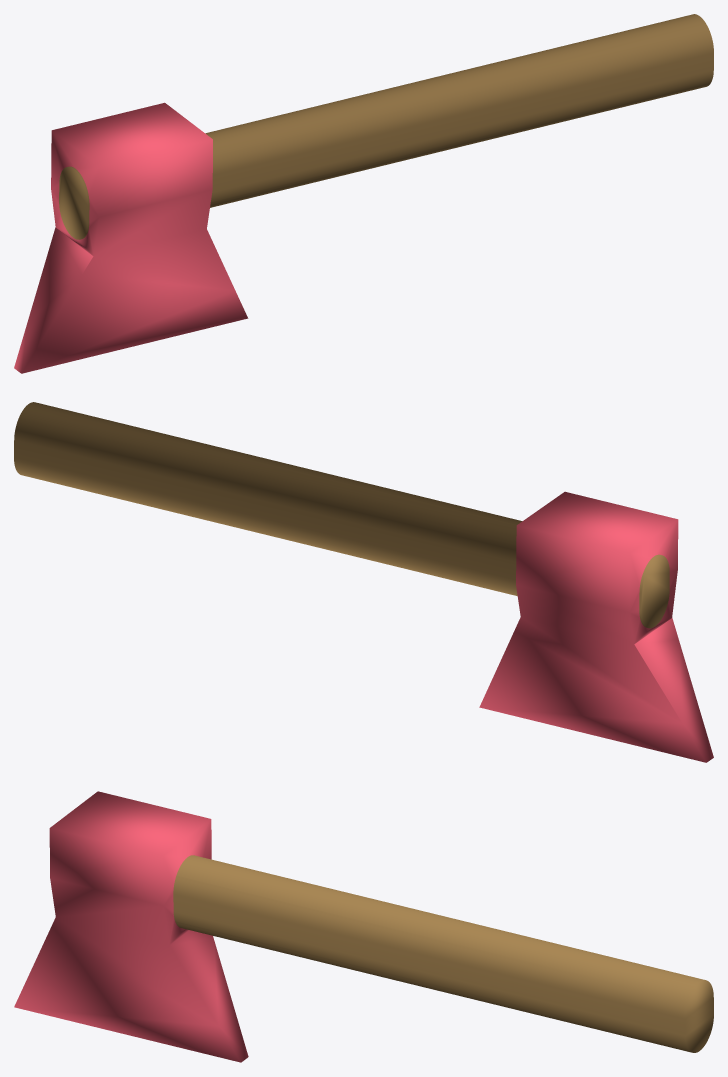
File: Axe.fbx
3 renders of one model, top to bottom at view 1: azimuth 30°, elevation 25°; view 2: azimuth 150°, elevation 25°; view 3: azimuth 330°, elevation 25°, orthographic.
Parts seen in each view (by area): view 1: obj_0.006; view 2: obj_0.006; view 3: obj_0.006.
Part boxes in pixels (x1,y1,x2,y2): obj_0.006: (14, 14, 713, 373); obj_0.006: (14, 402, 713, 762); obj_0.006: (14, 791, 713, 1062).
Bounding box in the file's own units: 1632 × 481 × 202.
